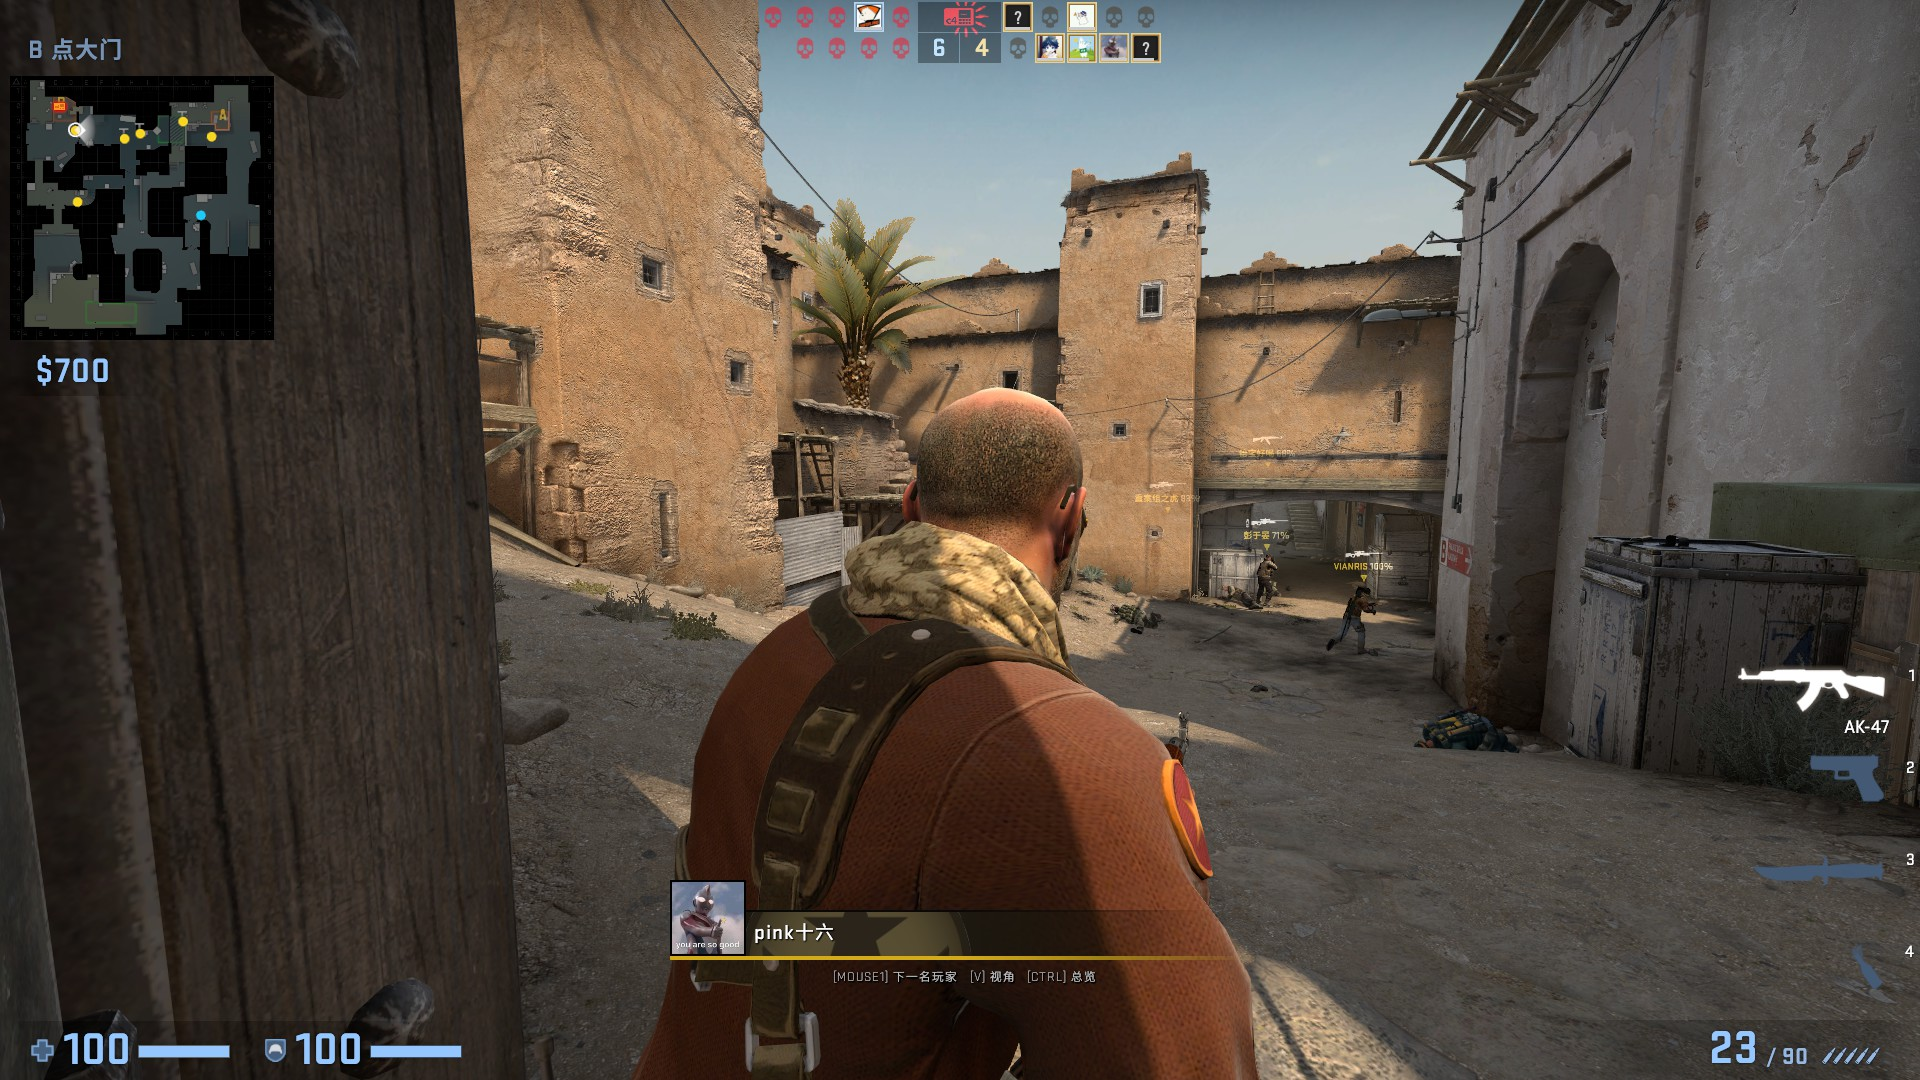head: (901, 383, 1087, 601), (1356, 585, 1373, 599), (1412, 737, 1432, 748), (1110, 602, 1121, 615), (1264, 552, 1272, 562), (1221, 583, 1228, 592)
